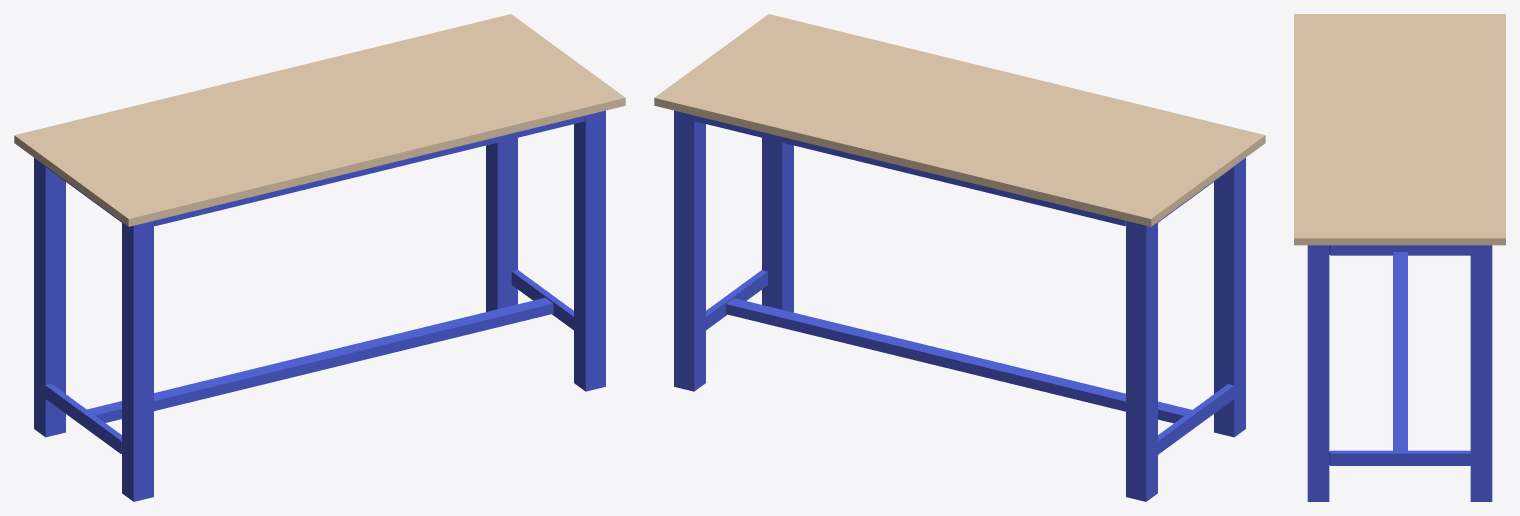
The model's file is Table_UR_retour.fbx.
The picture shows the model from 3 angles, left to right: view 1: azimuth 30°, elevation 25°; view 2: azimuth 150°, elevation 25°; view 3: azimuth 270°, elevation 25°; orthographic projection. The views are drawn at different scales.
Visible parts, largest first — view 1: TableLong; view 2: TableLong; view 3: TableLong.
Boxes of the visible parts, x1,y1,x2,y2 form: TableLong: [14, 14, 625, 501]; TableLong: [654, 14, 1265, 501]; TableLong: [1294, 14, 1505, 501].
Size of the model in its own units: 180 by 101 by 71.86.
